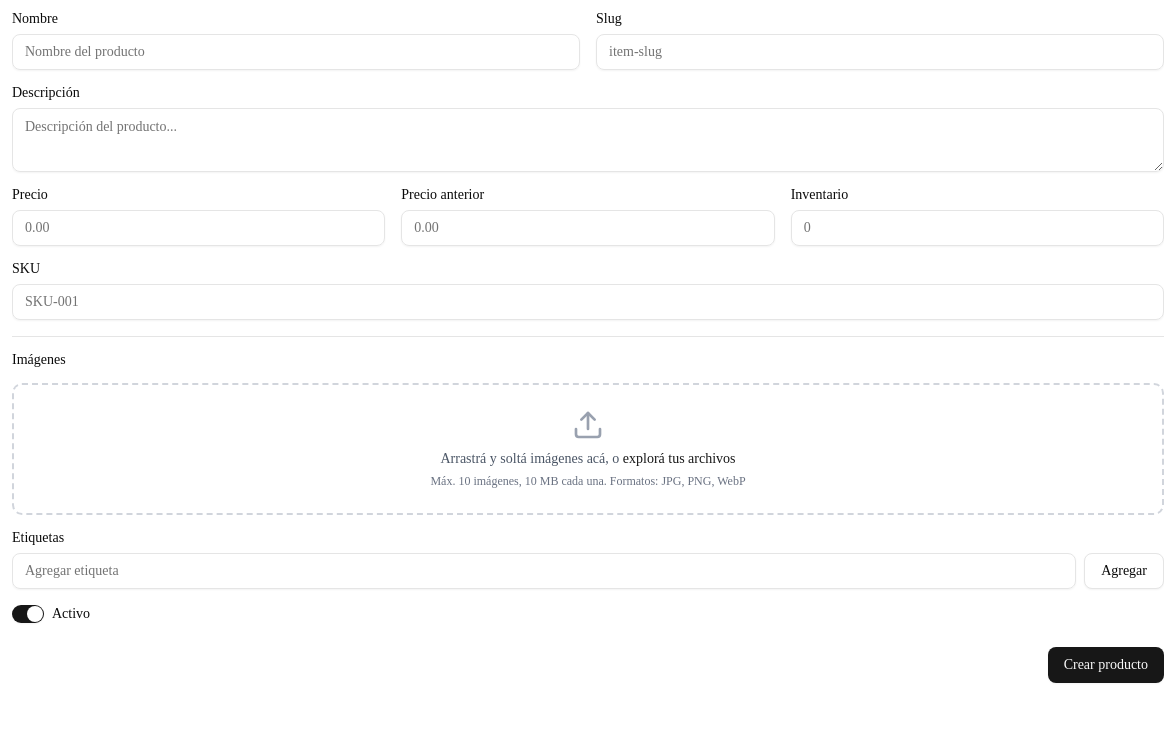
Test: ItemForm: create › resets the form, keeps the collection and refreshes after a successful create
Step 1. Type "Cadena" into the field labelled "Nombre" → [296, 52], box [12,34,580,70]
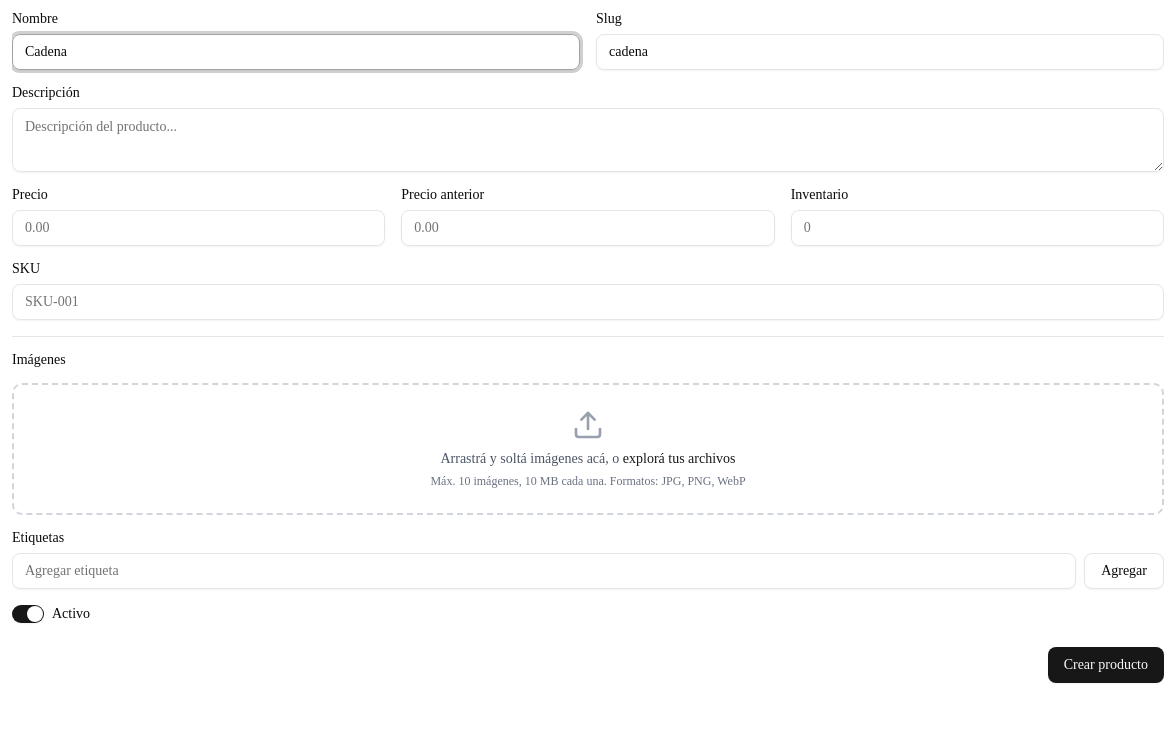
Step 2. Type "1500.5" into the number field labelled "Precio" → [199, 228], box [12,210,385,246]
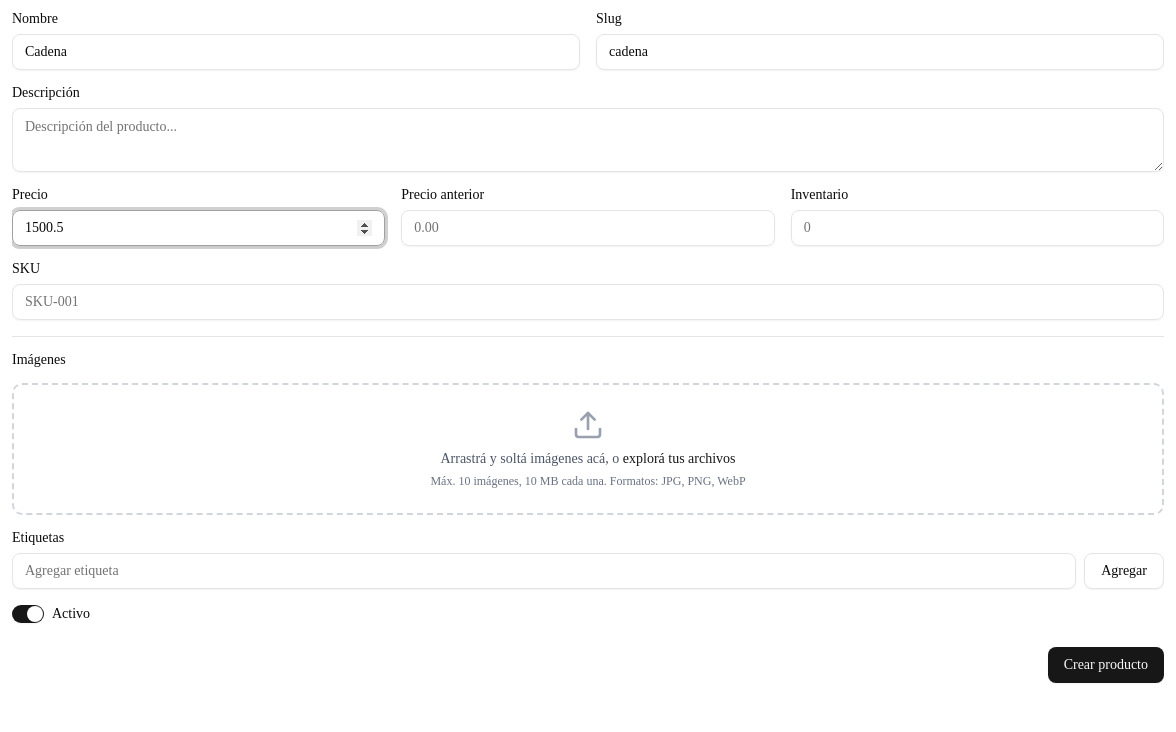
Step 3. Type "7" into the number field labelled "Inventario" → [977, 228], box [791,210,1164,246]
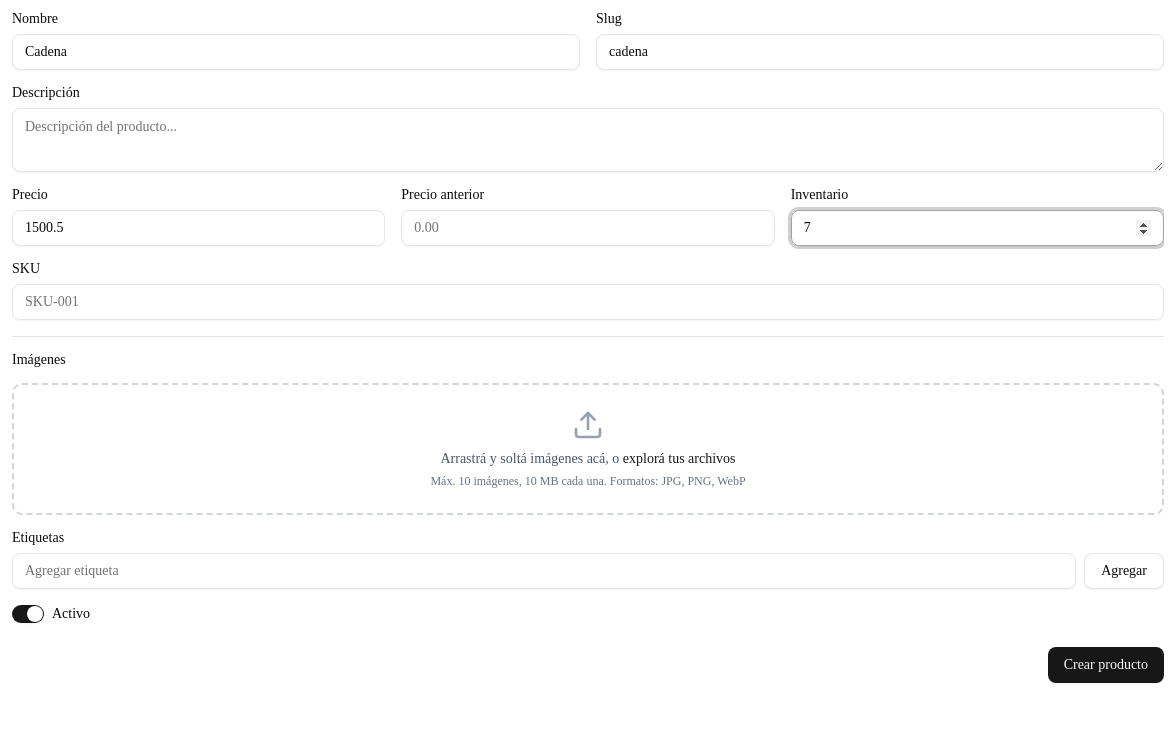
Step 4. Click the button "Crear producto" → [1106, 665], box [1048,647,1164,683]
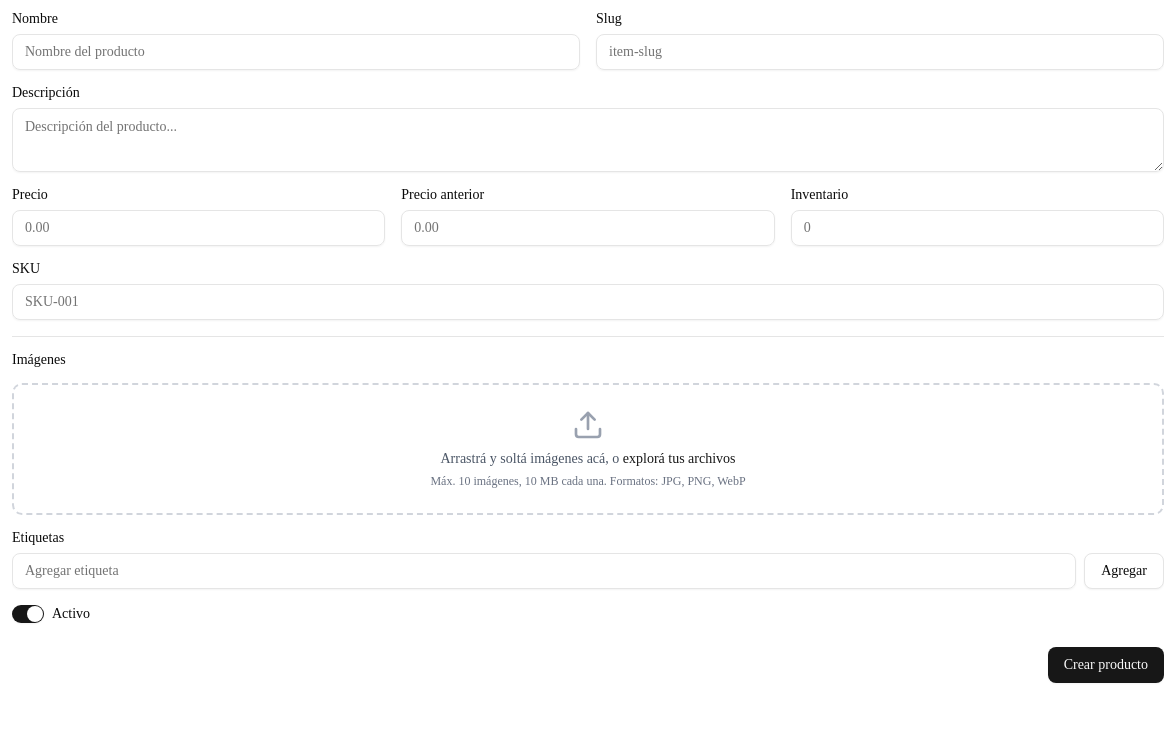
Check: the field labelled "Nombre" is empty, box [12,34,580,70]
